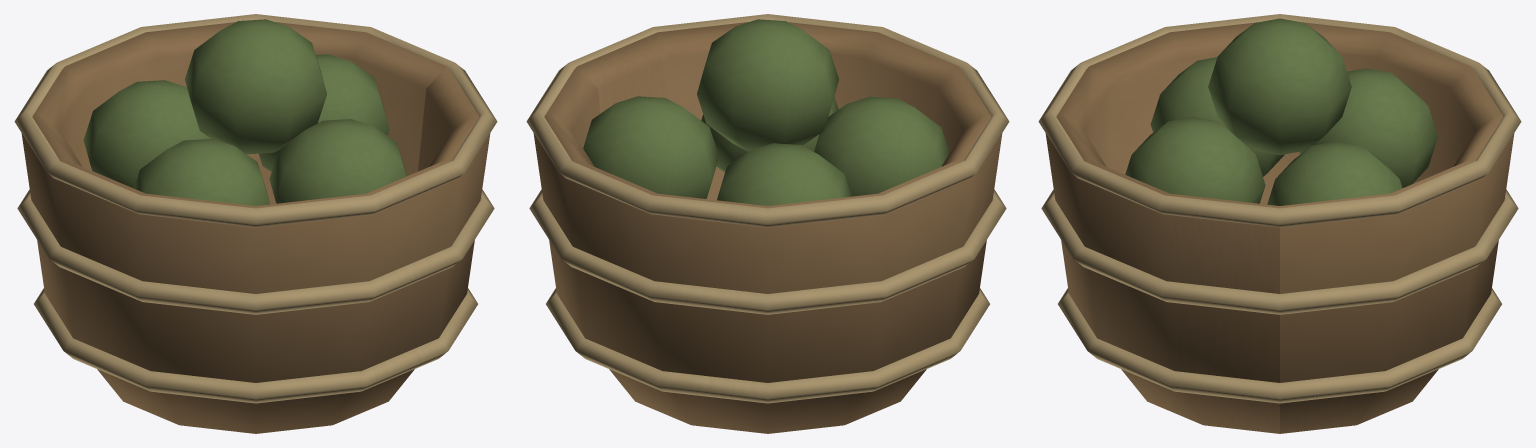
Rendered from s04-obst.glb.
The picture shows the model from 3 angles, left to right: view 1: azimuth 30°, elevation 25°; view 2: azimuth 150°, elevation 25°; view 3: azimuth 270°, elevation 25°; orthographic projection.
Visible parts, largest first — view 1: s04-obst; view 2: s04-obst; view 3: s04-obst.
Boxes of the visible parts, left/top/right/bottom form: s04-obst: left=14, top=14, right=497, bottom=433; s04-obst: left=526, top=14, right=1009, bottom=433; s04-obst: left=1038, top=14, right=1521, bottom=433.
Size of the model in its own units: 0.504 by 0.395 by 0.504.
Materials: 1 (1 with a texture image).
